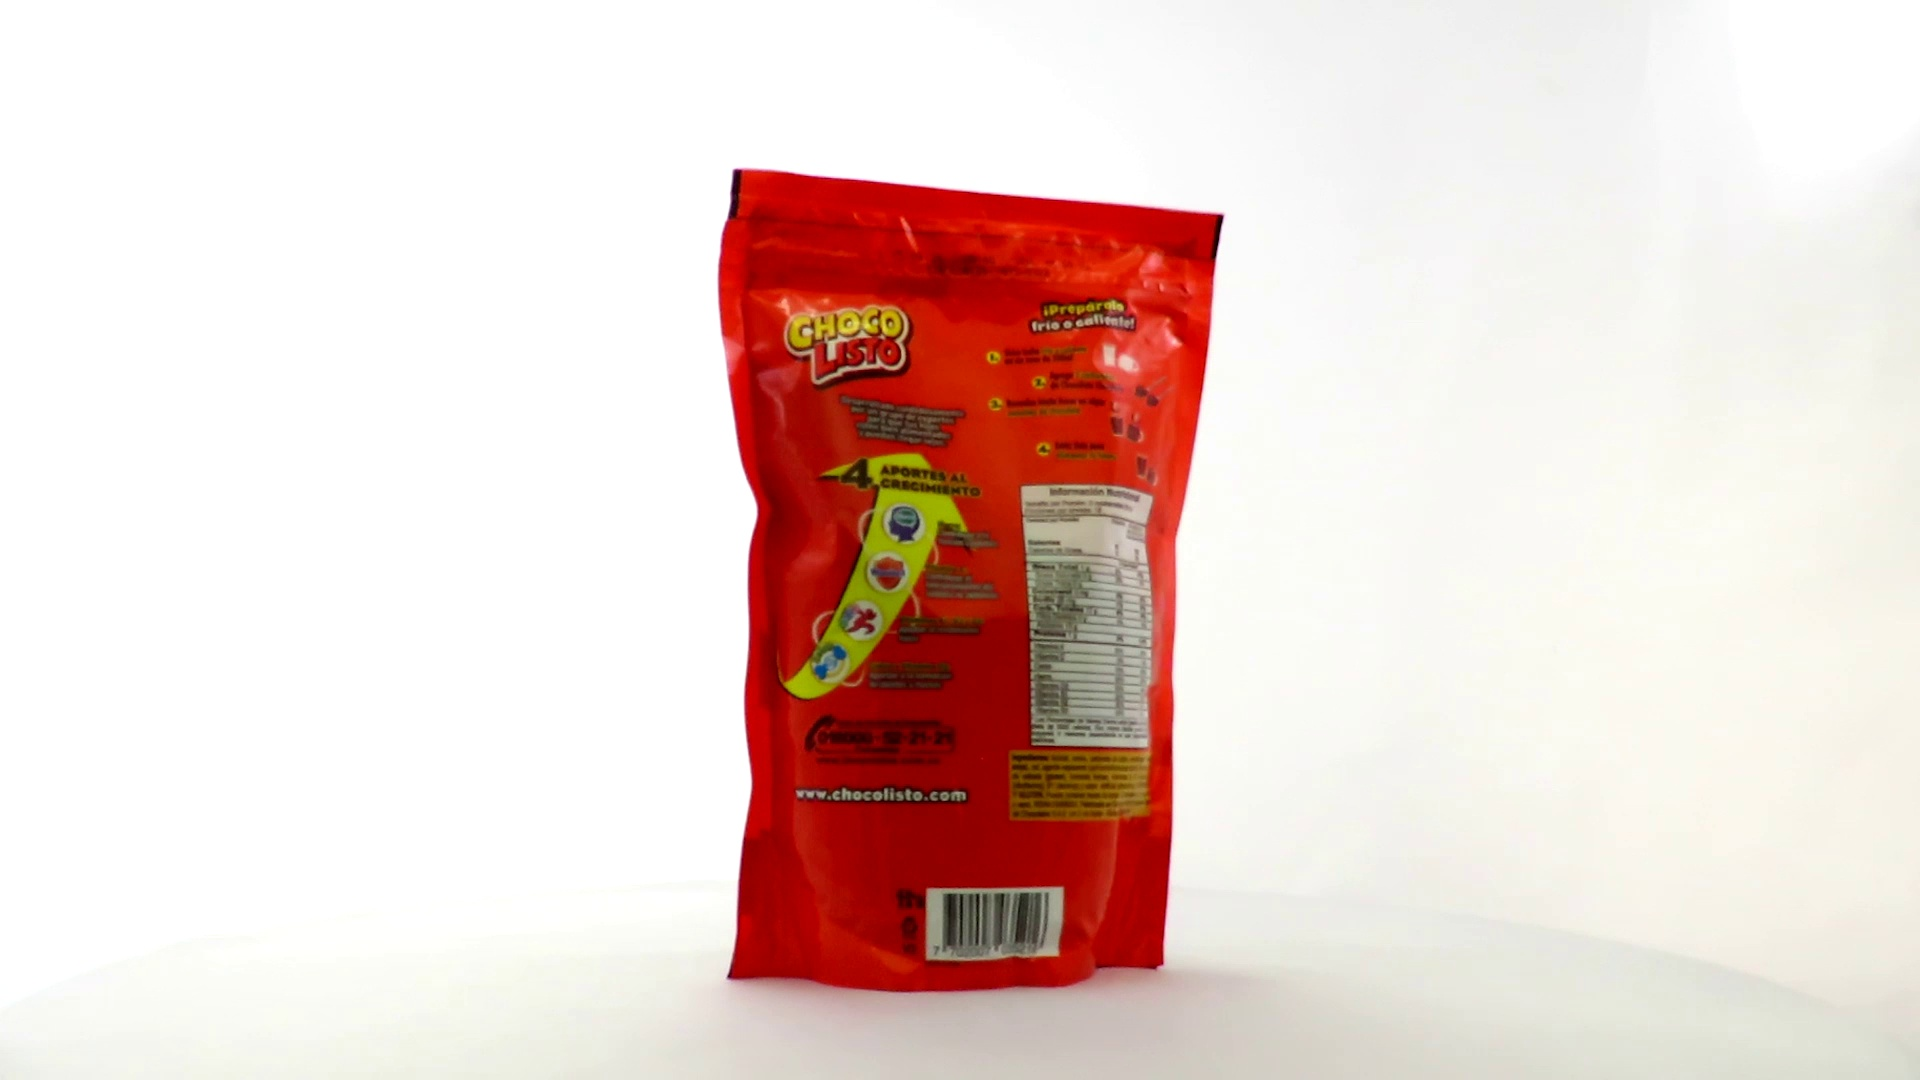COL0170103DYP36000: (713, 164, 1230, 1000)
